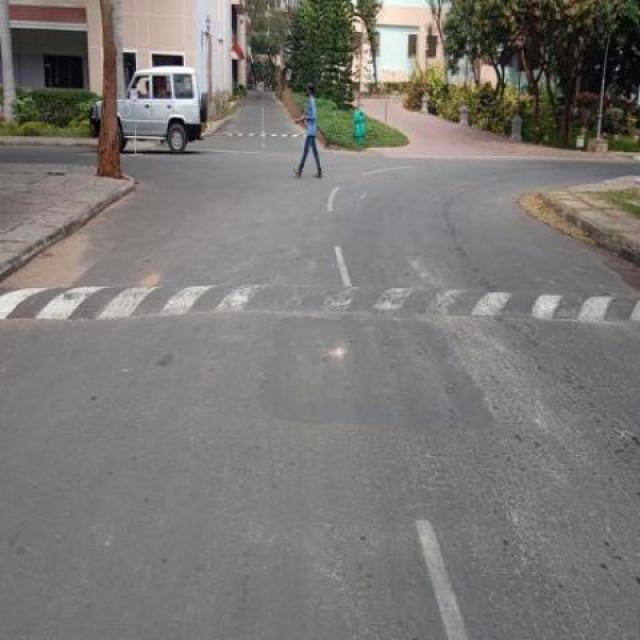Speed Bump: (0, 278, 639, 328)
